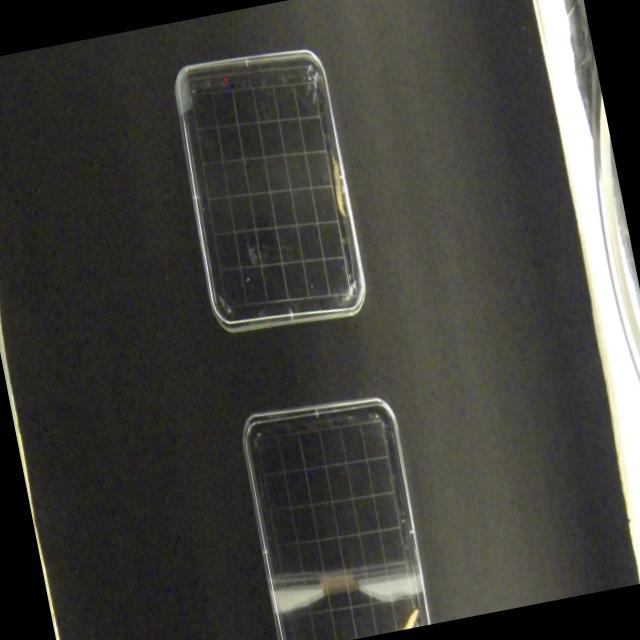larva: (326, 152, 350, 218), (384, 608, 424, 633)
